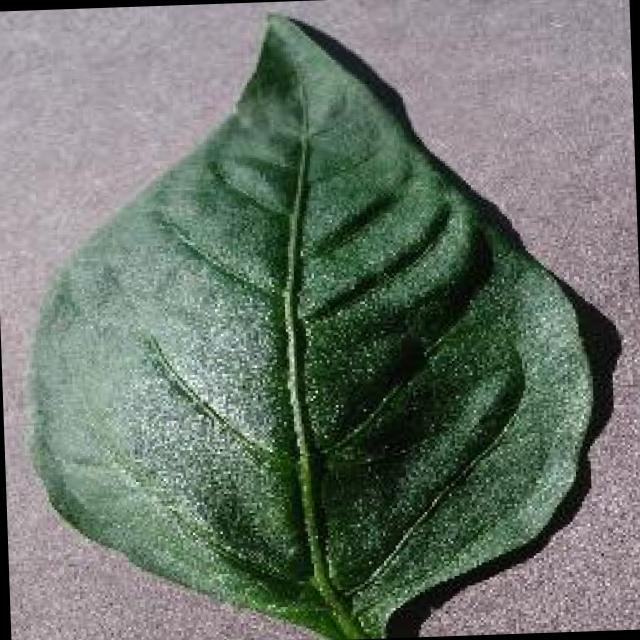Chilli_Healthy: (7, 0, 611, 640)
